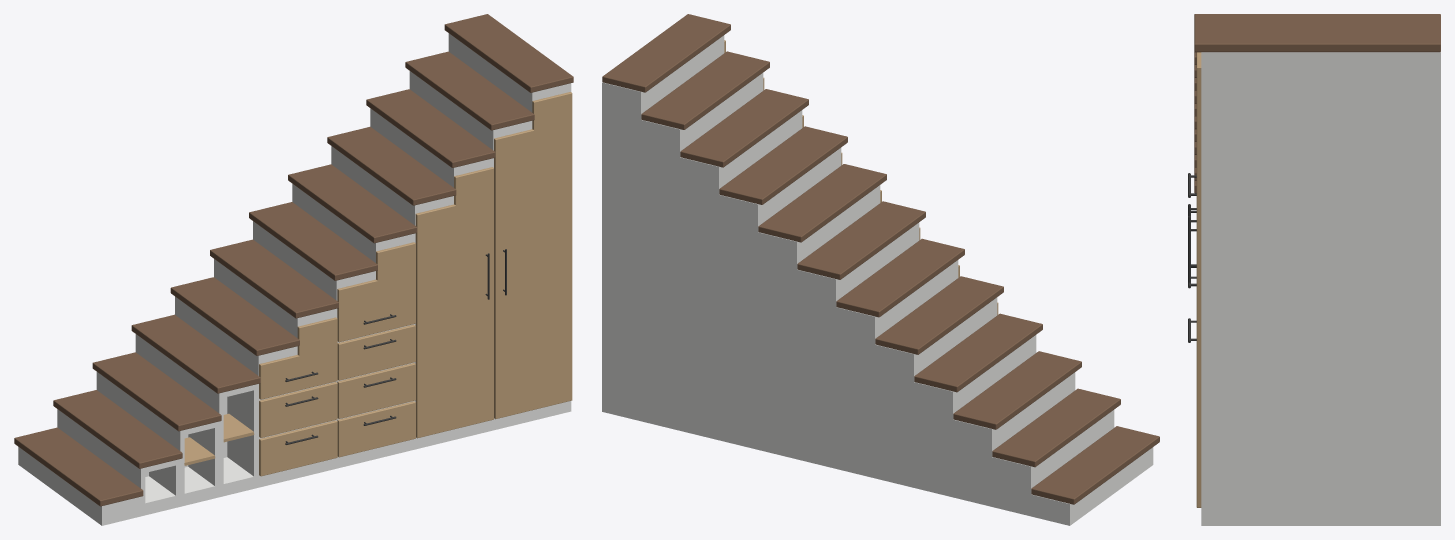
The model's file is stair_storage.glb.
3 views of the same model, side by side, from view 1: azimuth 30°, elevation 25°; view 2: azimuth 150°, elevation 25°; view 3: azimuth 270°, elevation 25° (orthographic). The views are drawn at different scales.
Visible parts, largest first — view 1: Carcass, Door_2, Door_1, Drawer_24_Stepped, Tread_03, Tread_01, Tread_04, Tread_08, Tread_11, Tread_12, Tread_02, Tread_10 (+10 smaller); view 2: Carcass, Tread_01, Tread_02, Tread_03, Tread_04, Tread_07, Tread_11, Tread_05, Tread_06, Tread_09, Tread_10, Tread_12 (+1 smaller); view 3: Carcass, Tread_12, Door_2.
Part boxes in pixels (x1,y1,x2,y2): Carcass: (18,33,571,525); Door_2: (494,92,572,419); Door_1: (415,167,493,438); Drawer_24_Stepped: (337,242,415,342); Tread_03: (92,352,221,431); Tread_01: (14,427,143,506); Tread_04: (131,314,260,393); Tread_08: (288,164,417,243); Tread_11: (405,51,534,130); Tread_12: (444,14,573,92); Tread_02: (53,390,182,468); Tread_10: (366,89,495,167); Carcass: (602,35,1153,525); Tread_01: (1031,426,1159,504); Tread_02: (992,388,1120,467); Tread_03: (953,351,1081,429); Tread_04: (914,313,1042,392); Tread_07: (797,201,925,279); Tread_11: (641,51,769,129); Tread_05: (875,276,1003,354); Tread_06: (836,238,964,317); Tread_09: (719,126,847,204); Tread_10: (680,89,808,167); Tread_12: (602,14,730,92); Carcass: (1201,52,1440,525); Tread_12: (1194,14,1440,52); Door_2: (1196,52,1201,507).
Bounding box in the file's own units: 3.27 × 2.22 × 1.06.
